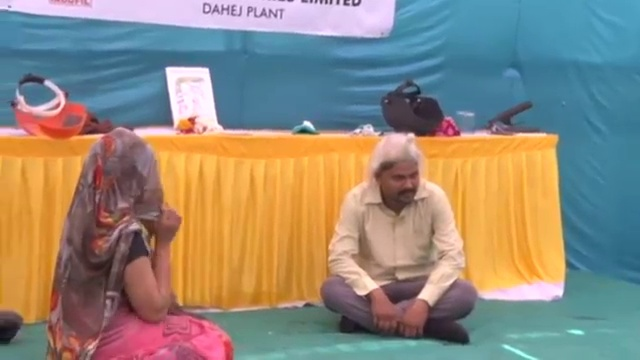helmet_off: (88, 129, 159, 215), (372, 135, 423, 203)
person: (41, 128, 236, 360), (318, 131, 478, 345)
